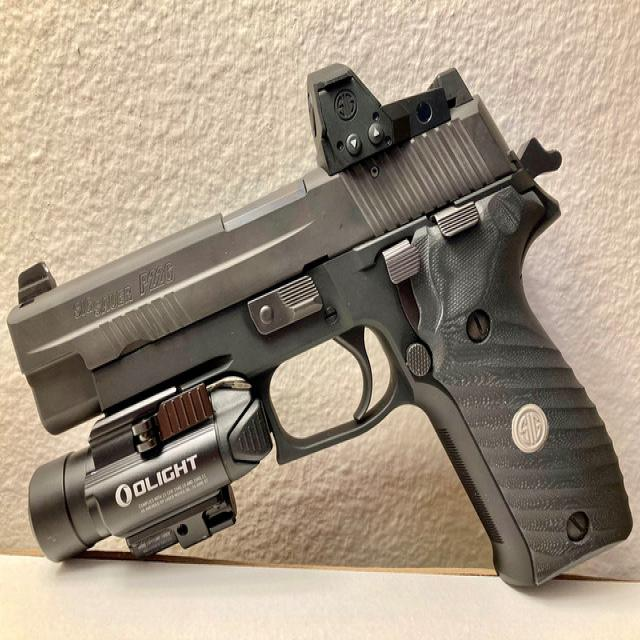HandGun: (7, 64, 640, 593)
